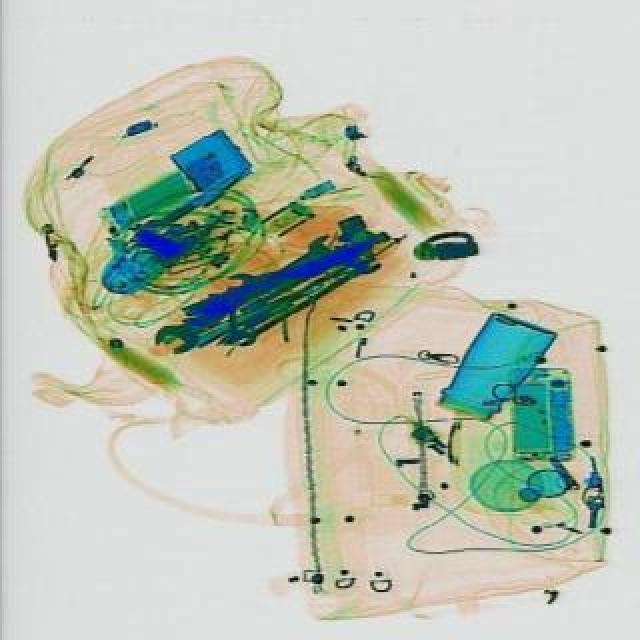scissors: (146, 226, 342, 362), (226, 248, 382, 348), (220, 242, 366, 298)
